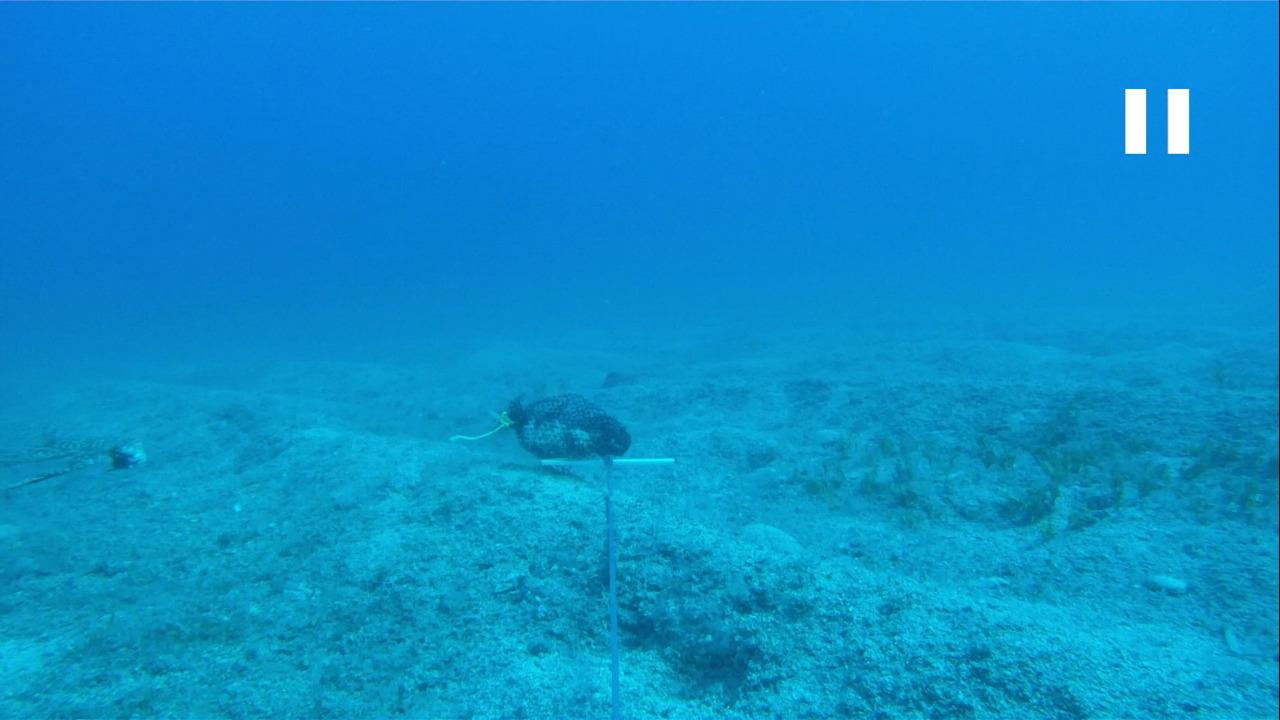dactylopterus: (3, 433, 154, 507)
